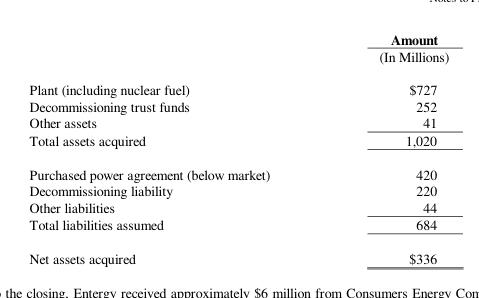table: (28, 29, 448, 267)
table column: (28, 29, 323, 267), (323, 29, 448, 267)
table column header: (28, 29, 448, 72)
table row: (28, 29, 448, 72), (28, 240, 448, 267), (28, 130, 448, 156), (28, 72, 448, 97), (28, 156, 448, 181), (28, 215, 448, 240), (28, 113, 448, 130), (28, 181, 448, 198), (28, 198, 448, 215), (28, 97, 448, 113)
